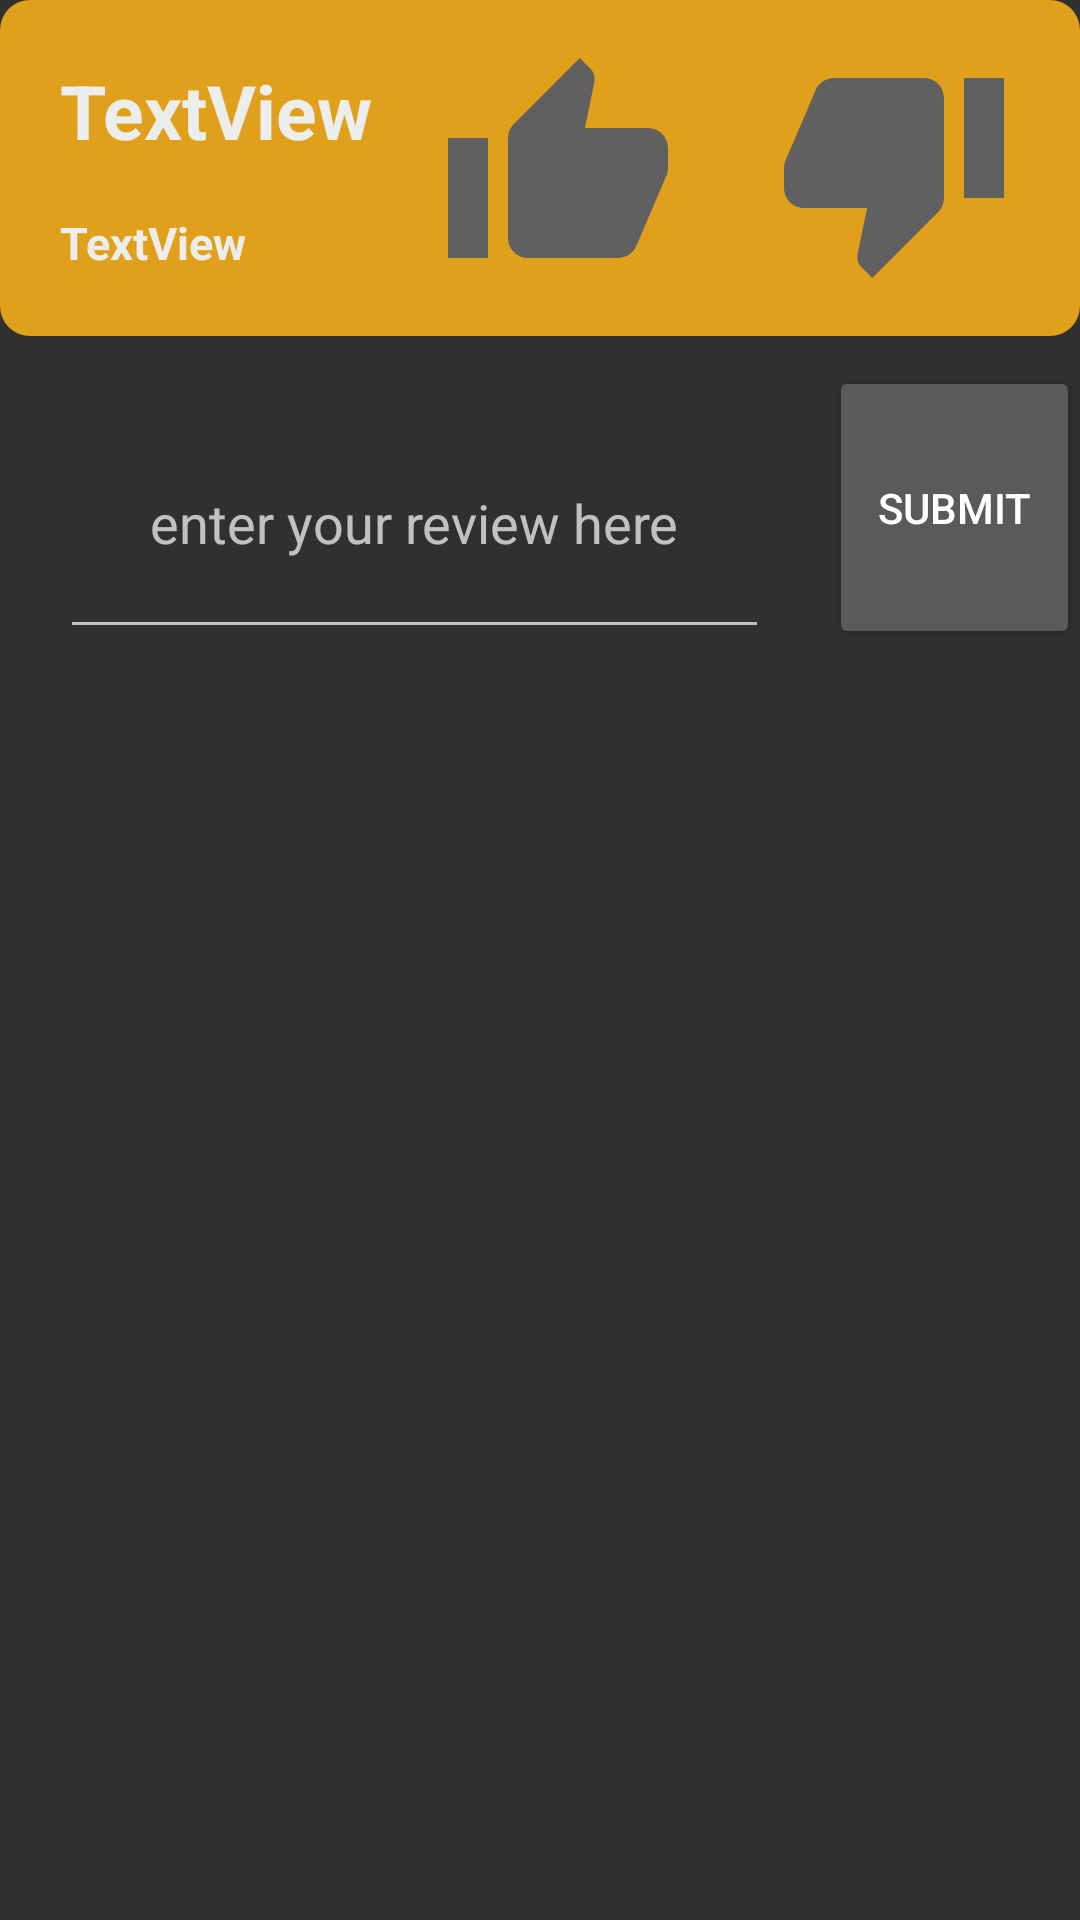

Icon click points for this 1080 × 1920 phone screenshot, format point (x, y):
dislike press: point (894, 178)
like press: point (558, 158)
